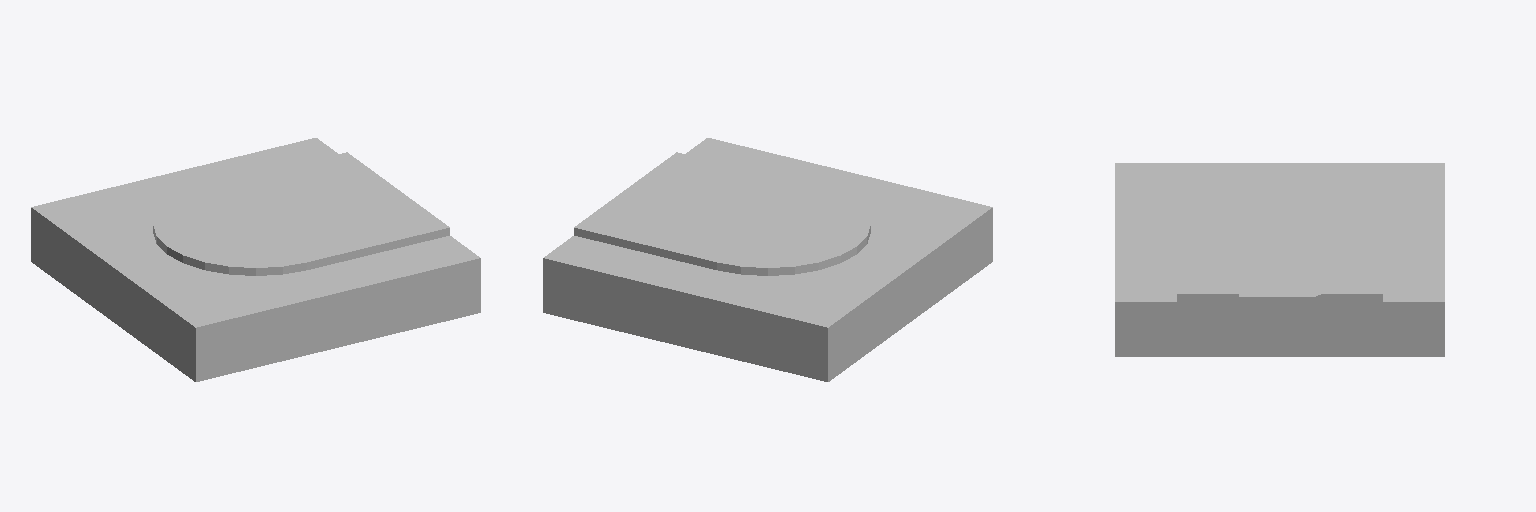
File: roadTile_143.obj
3 views of the same model, side by side, from view 1: azimuth 30°, elevation 25°; view 2: azimuth 150°, elevation 25°; view 3: azimuth 270°, elevation 25° (orthographic).
Visible parts, largest first — view 1: Mesh1 Group1 Model; view 2: Mesh1 Group1 Model; view 3: Mesh1 Group1 Model.
Part boxes in pixels (x1,y1,x2,y2): Mesh1 Group1 Model: (31, 138, 480, 381); Mesh1 Group1 Model: (543, 138, 992, 381); Mesh1 Group1 Model: (1115, 163, 1444, 356).
Size of the model in its own units: 3 by 0.63 by 3.